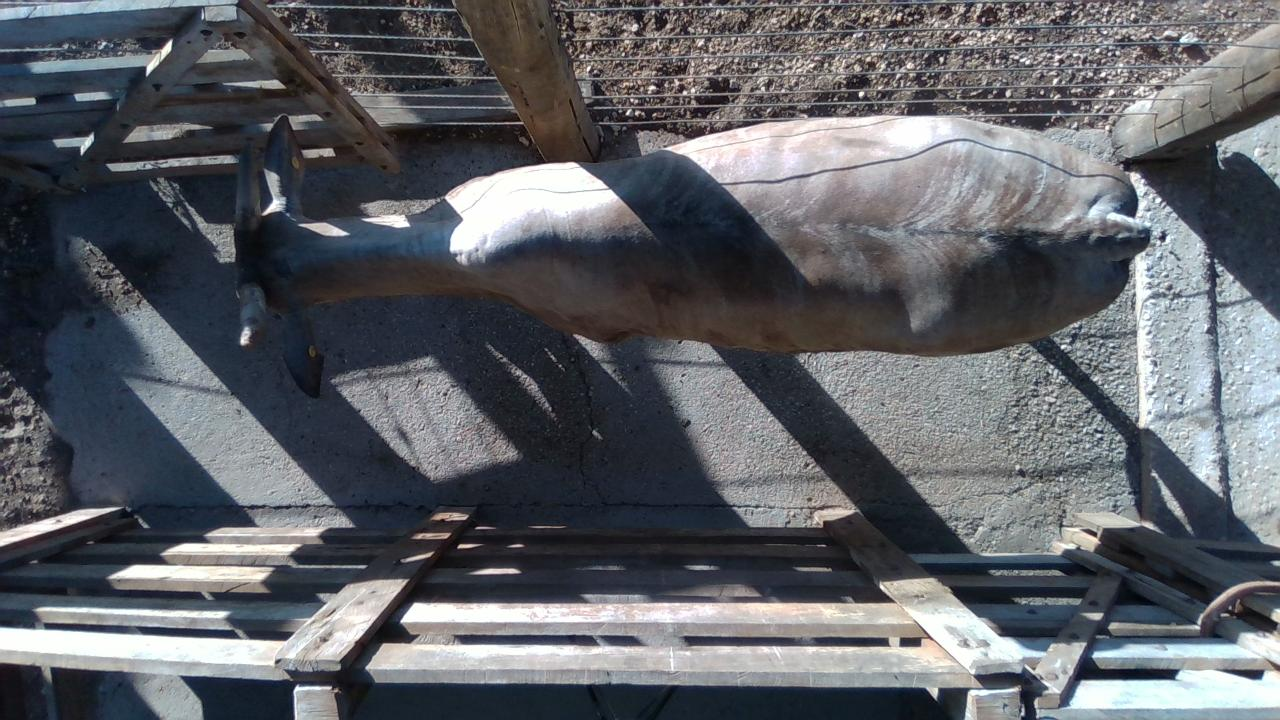cattle: (232, 110, 1151, 397)
